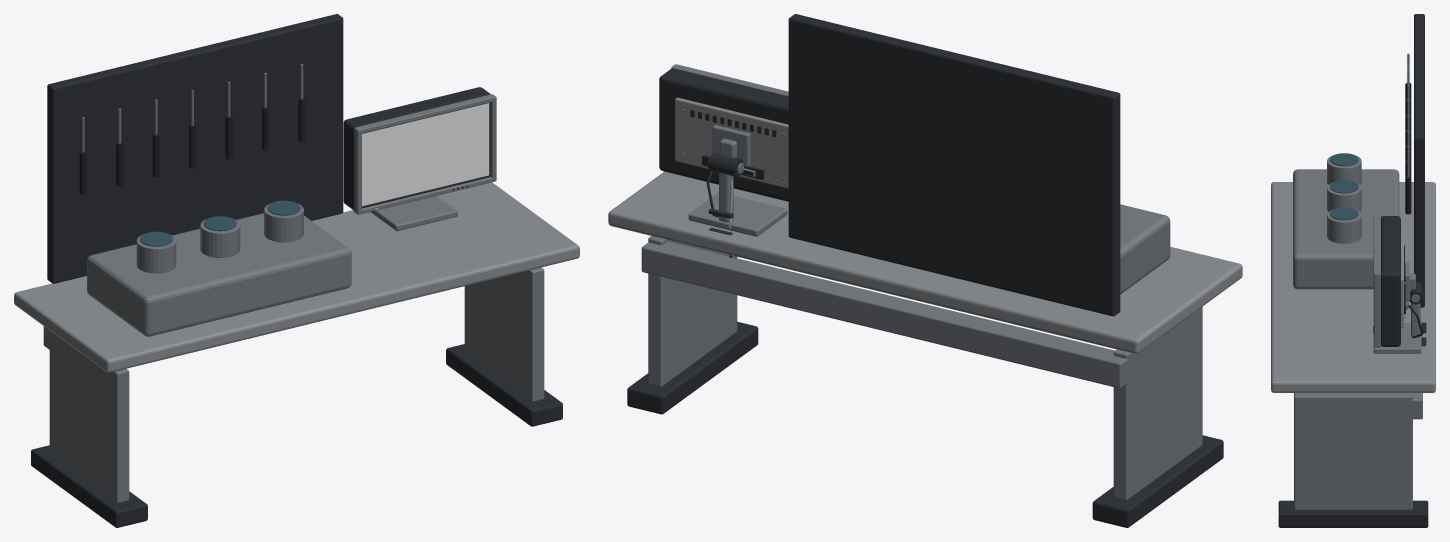
The model's file is BX_InstrumentServiceBay.fbx.
3 renders of one model, left to right at view 1: azimuth 30°, elevation 25°; view 2: azimuth 150°, elevation 25°; view 3: azimuth 270°, elevation 25°, orthographic. The views are drawn at different scales.
Visible parts, largest first — view 1: BX_InstrumentServiceBay; view 2: BX_InstrumentServiceBay; view 3: BX_InstrumentServiceBay.
Part boxes in pixels (x1,y1,x2,y2): BX_InstrumentServiceBay: (14,14,579,527); BX_InstrumentServiceBay: (608,14,1242,527); BX_InstrumentServiceBay: (1271,14,1435,527).
Size of the model in its own units: 260 by 200 by 90.
